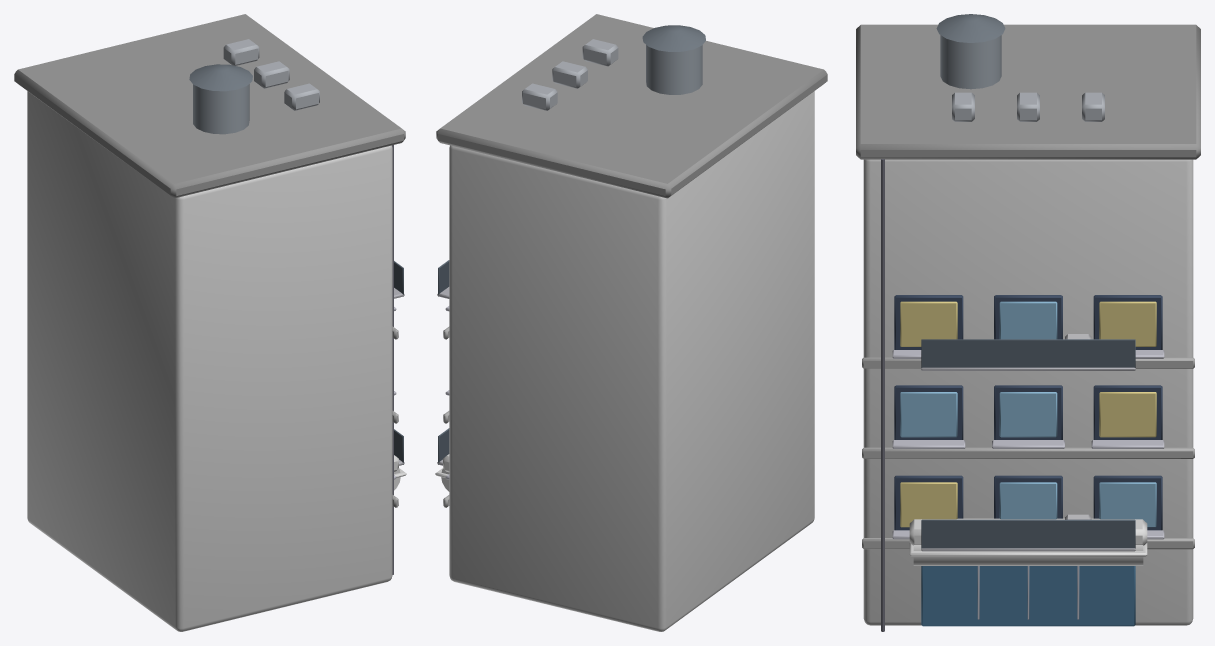
File: bld_3.glb
3 views of the same model, side by side, from view 1: azimuth 30°, elevation 25°; view 2: azimuth 150°, elevation 25°; view 3: azimuth 270°, elevation 25° (orthographic). The views are drawn at different scales.
Visible parts, largest first — view 1: b; view 2: b; view 3: b.
Part boxes in pixels (x1,y1,x2,y2): b: (14,14,406,631); b: (435,14,827,631); b: (856,14,1200,631).
Bounding box in the file's own units: 8.5 × 15.7 × 9.
